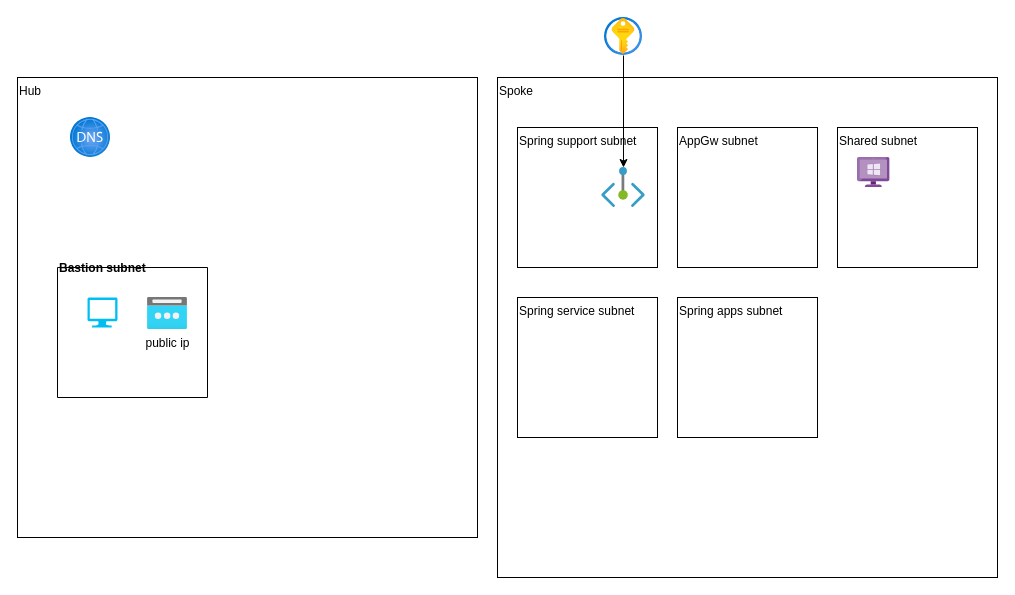
This 1015x595 diagram has some shape labels left out. Each missing label, with the centre of its shape:
Bastion host: [102,312]
Jumphost: [873,172]
Keyvault: [623,36]
Private DNS: [90,137]
